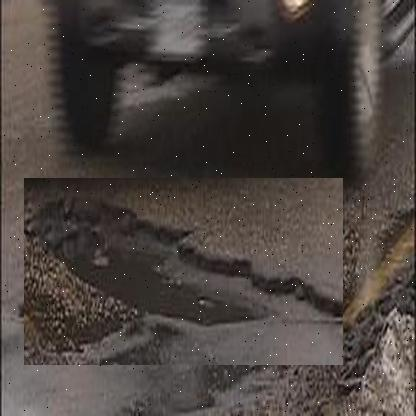pothole_water: (24, 178, 344, 366)
